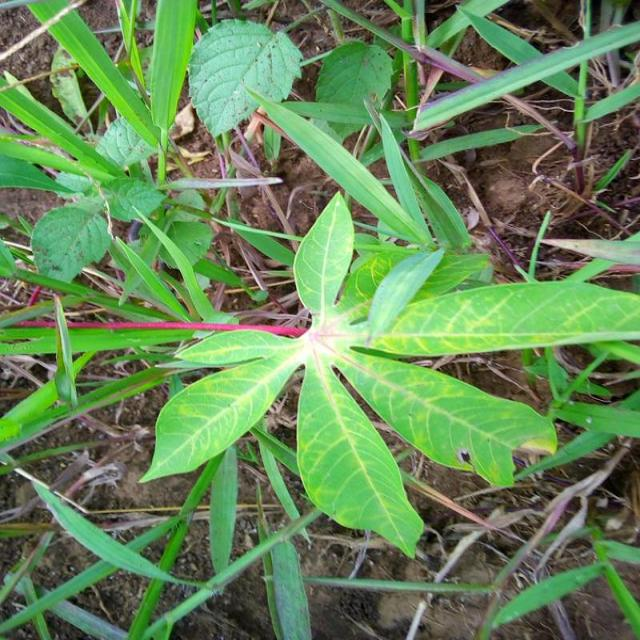cassava leaf: (138, 189, 560, 558), (295, 346, 424, 559), (186, 17, 304, 139)
